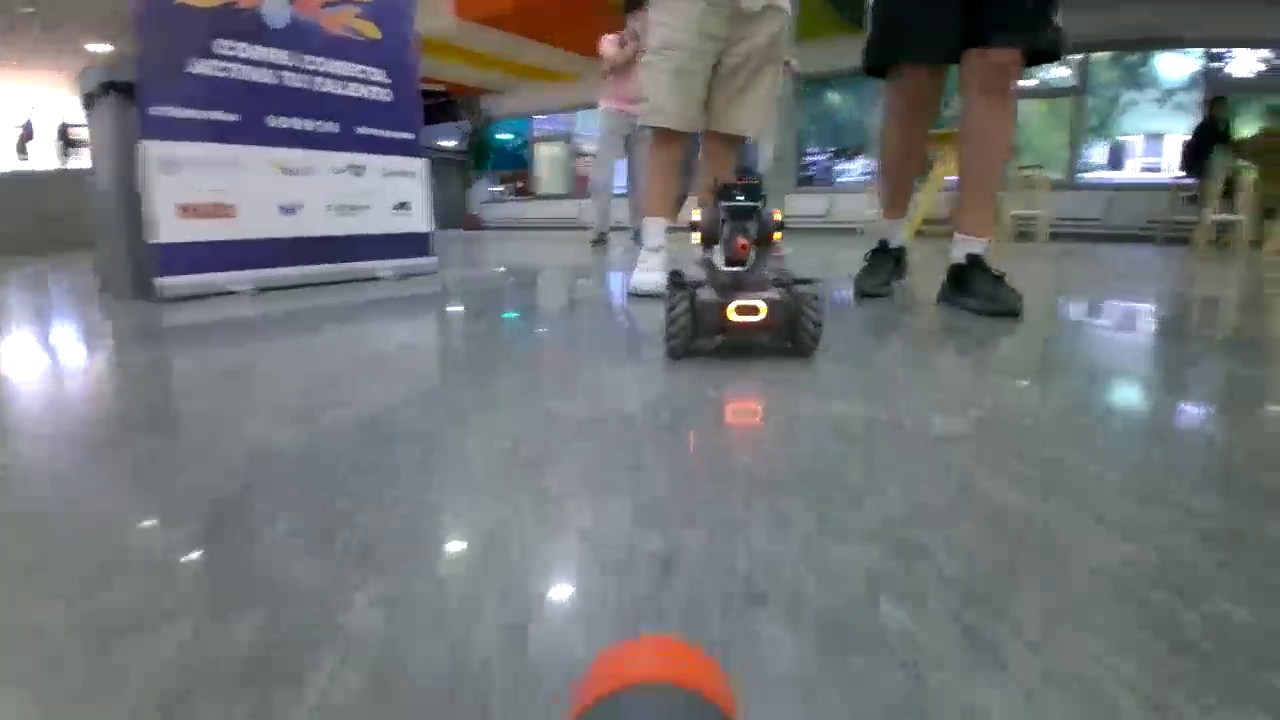robot: (665, 178, 825, 360)
